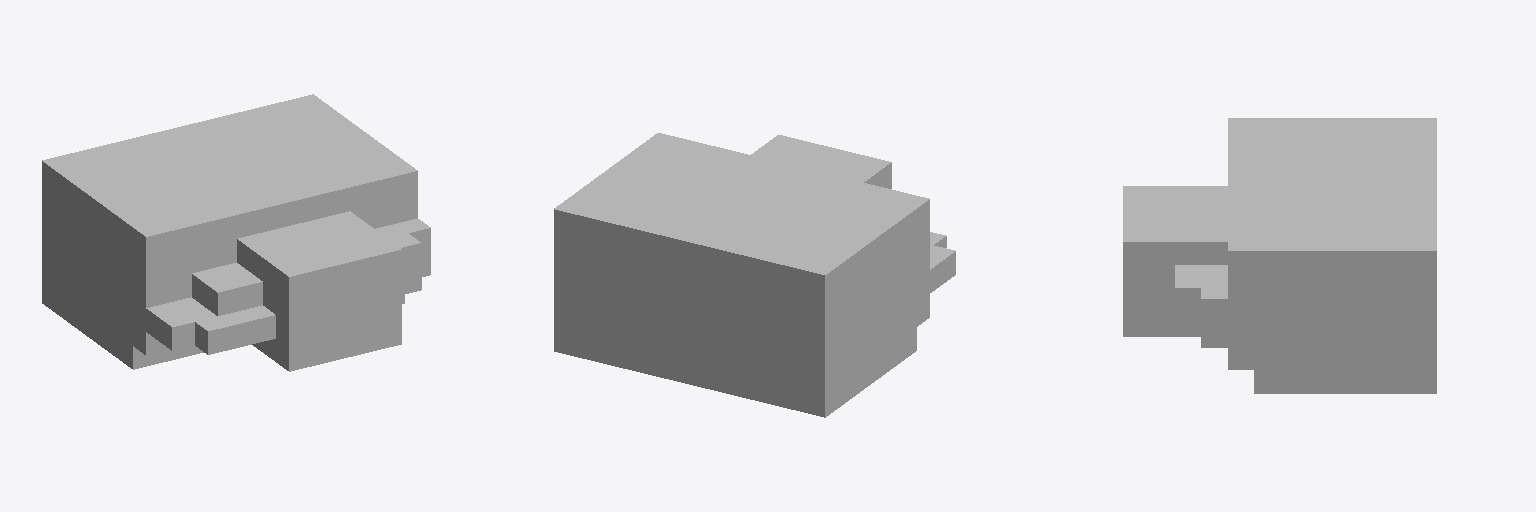
The model's file is cliff1 12x12.obj.
3 views of the same model, side by side, from view 1: azimuth 30°, elevation 25°; view 2: azimuth 150°, elevation 25°; view 3: azimuth 270°, elevation 25° (orthographic).
Bounding box in the file's own units: 12 × 6 × 12.